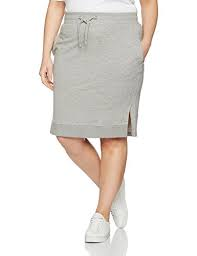C_skirt: (37, 8, 153, 151)
